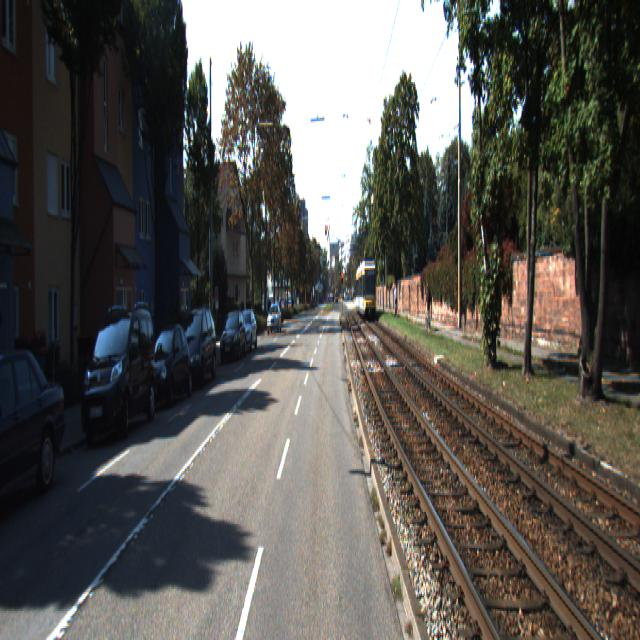Car: (0, 338, 71, 532), (78, 300, 158, 449), (142, 322, 194, 412), (173, 304, 218, 392), (219, 312, 247, 366), (355, 257, 377, 318), (235, 310, 257, 356)
